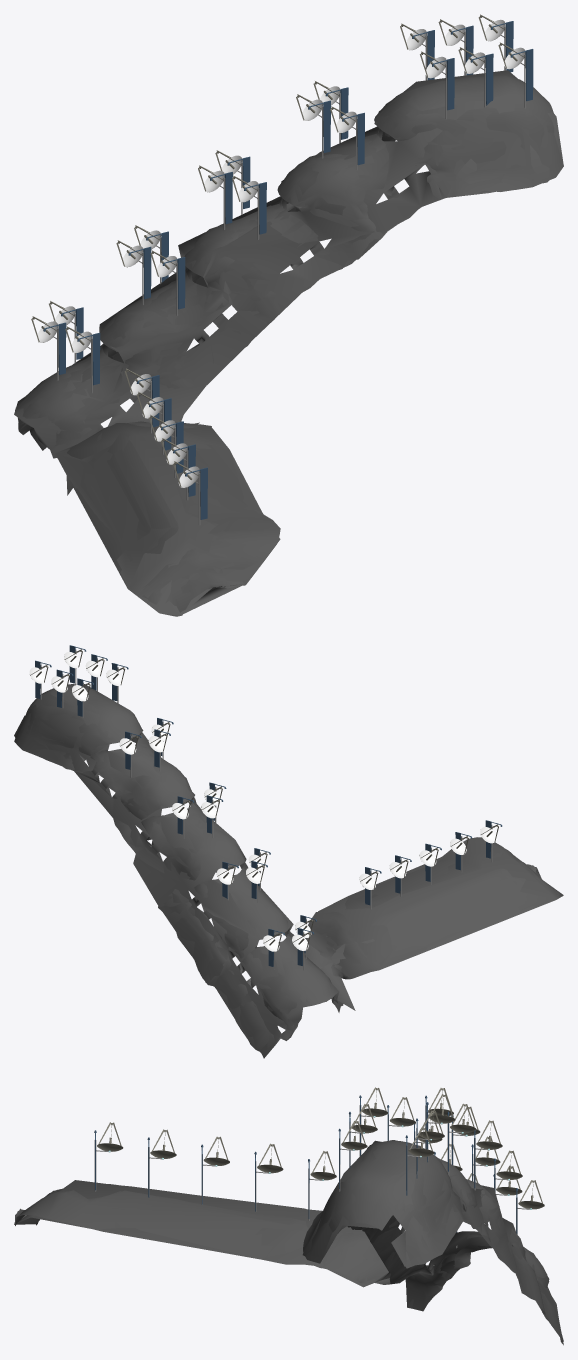
Rendered from Overlay_3rd_Gal_Top.glb.
3 renders of one model, top to bottom at view 1: azimuth 30°, elevation 25°; view 2: azimuth 150°, elevation 25°; view 3: azimuth 270°, elevation 25°, orthographic. The views are drawn at different scales.
Parts seen in each view (by area): view 1: Overlay_3rdGal_Top, Overlay_3rdGal_Top.001, Overlay_3rdGal_Top.002, LightTubes_3rdGal_Top_LEDs, LightTubes_3rdGal_Top_Mirrors, LightTubes_3rdGal_Top_Bases; view 2: Overlay_3rdGal_Top, Overlay_3rdGal_Top.002, Overlay_3rdGal_Top.001, LightTubes_3rdGal_Top_Mirrors, LightTubes_3rdGal_Top_LEDs, LightTubes_3rdGal_Top_Bases; view 3: Overlay_3rdGal_Top, Overlay_3rdGal_Top.002, Overlay_3rdGal_Top.001, LightTubes_3rdGal_Top_Mirrors, LightTubes_3rdGal_Top_Bases, LightTubes_3rdGal_Top_LEDs.
Boxes of the visible parts, bbox=[...] form: Overlay_3rdGal_Top: bbox=[15, 75, 563, 616]; Overlay_3rdGal_Top.001: bbox=[14, 70, 563, 615]; Overlay_3rdGal_Top.002: bbox=[17, 76, 561, 616]; LightTubes_3rdGal_Top_LEDs: bbox=[43, 21, 533, 519]; LightTubes_3rdGal_Top_Mirrors: bbox=[31, 14, 525, 487]; LightTubes_3rdGal_Top_Bases: bbox=[53, 24, 525, 525]; Overlay_3rdGal_Top: bbox=[17, 684, 559, 1058]; Overlay_3rdGal_Top.002: bbox=[14, 684, 557, 1049]; Overlay_3rdGal_Top.001: bbox=[14, 684, 563, 1054]; LightTubes_3rdGal_Top_Mirrors: bbox=[29, 649, 498, 951]; LightTubes_3rdGal_Top_LEDs: bbox=[35, 645, 502, 966]; LightTubes_3rdGal_Top_Bases: bbox=[40, 648, 492, 970]; Overlay_3rdGal_Top: bbox=[14, 1141, 563, 1345]; Overlay_3rdGal_Top.002: bbox=[15, 1140, 563, 1341]; Overlay_3rdGal_Top.001: bbox=[14, 1140, 561, 1340]; LightTubes_3rdGal_Top_Mirrors: bbox=[97, 1087, 544, 1209]; LightTubes_3rdGal_Top_Bases: bbox=[94, 1105, 529, 1248]; LightTubes_3rdGal_Top_LEDs: bbox=[94, 1095, 517, 1233].
Size of what is drawn, in the model's own units: 386 by 254 by 318.
